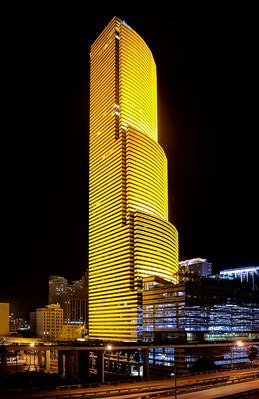building: (83, 14, 182, 342)
